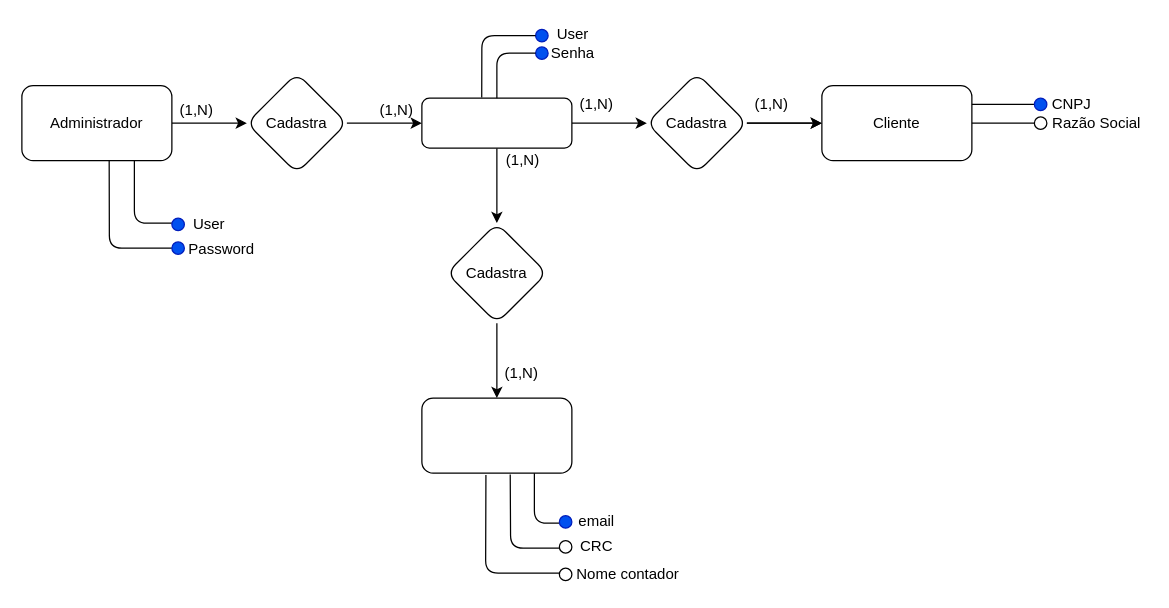
Some shapes in this 1169 by 608 pixel diagram are drawn without their labels. The shapes that lost their labels are listed below. From the top down, each one's box as (x1, y1, x2, y2) in pixels, then its label:
(421, 97, 572, 148): Escritório
(421, 397, 572, 473): Contador
